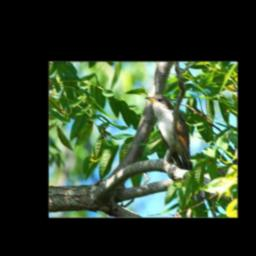Cuckoo: (145, 93, 194, 169)
